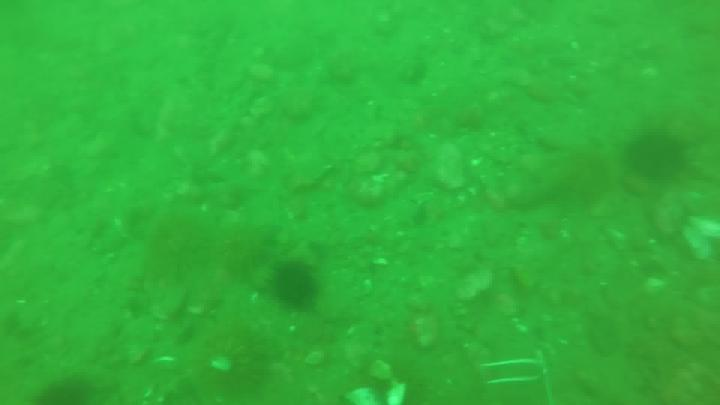echinus: (196, 330, 264, 398), (621, 128, 689, 186), (270, 261, 309, 305)
scallop: (682, 214, 717, 260), (459, 272, 494, 300), (348, 388, 374, 405), (387, 383, 406, 405), (305, 350, 325, 368)
